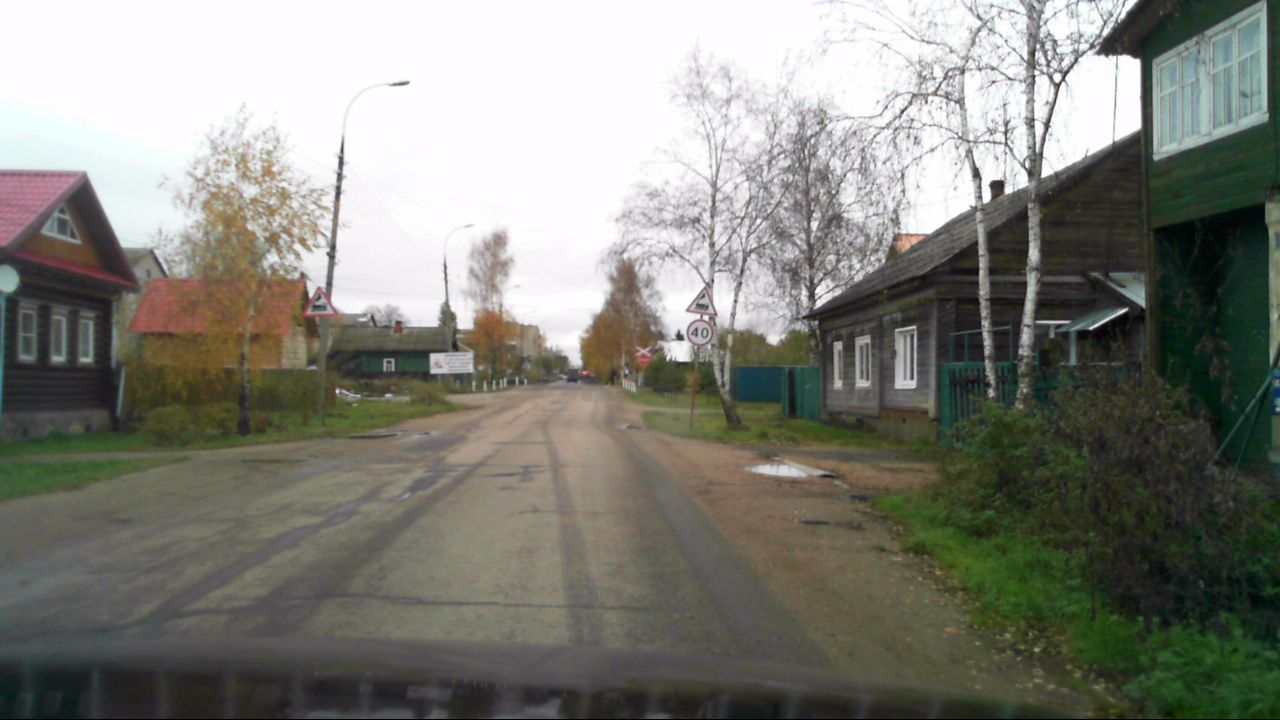speed_warning_40: (686, 319, 713, 346)
